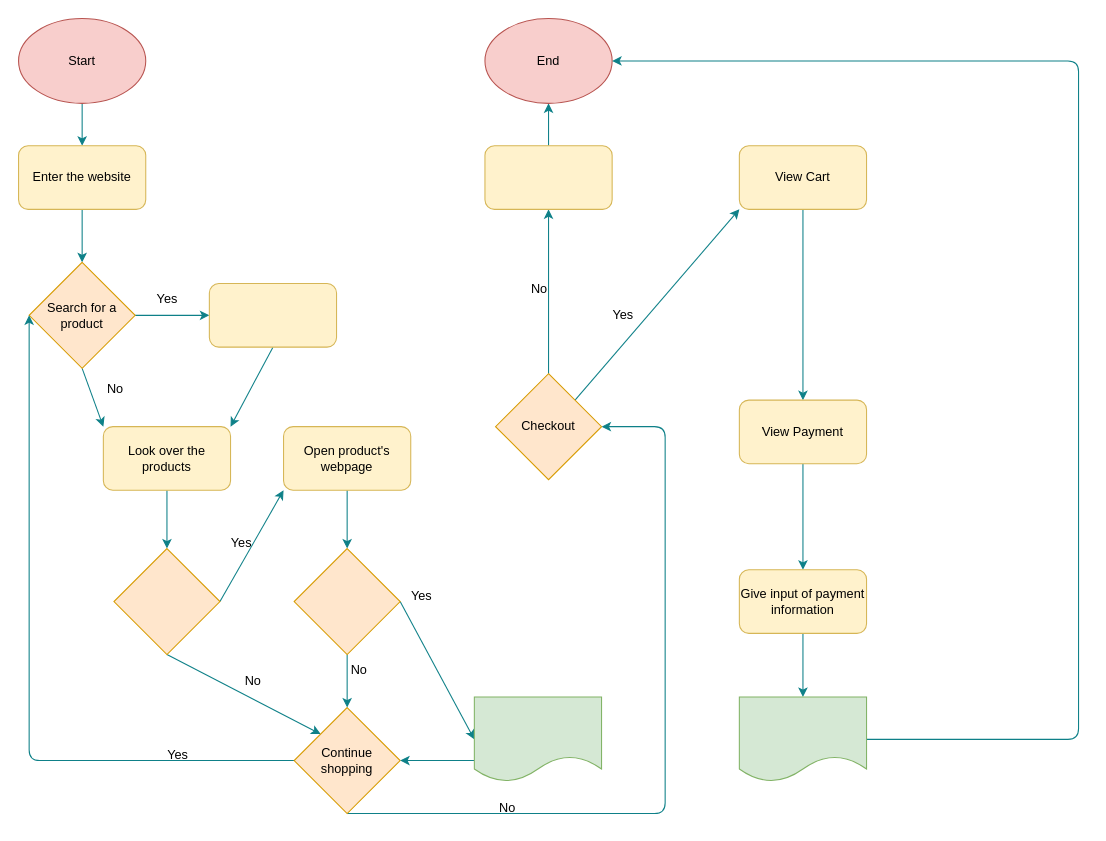
This 1106x841 diagram has some shape labels left out. The shapes that lost their labels are listed below. From the top down, each one's centre as x and y in pixels, then its label:
[548,177]: Exit the website
[272,314]: Provide input to the website of their search
[166,601]: View a specific product
[346,601]: Add to cart
[537,739]: Added to cart confirmation
[802,739]: Order confirmation and email
